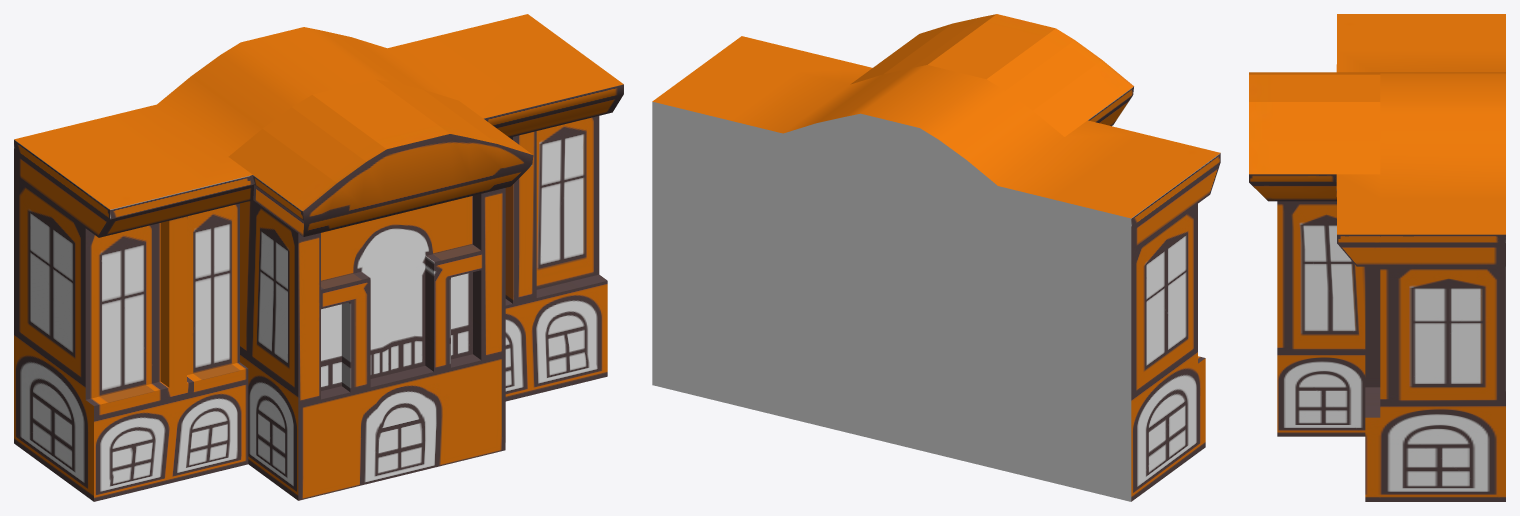
The model's file is Saran.fbx.
The picture shows the model from 3 angles, left to right: view 1: azimuth 30°, elevation 25°; view 2: azimuth 150°, elevation 25°; view 3: azimuth 270°, elevation 25°; orthographic projection. The views are drawn at different scales.
Visible parts, largest first — view 1: polySurface11; view 2: polySurface11; view 3: polySurface11.
Boxes of the visible parts, <box> form: polySurface11: <box>14,14,623,501</box>; polySurface11: <box>652,14,1220,501</box>; polySurface11: <box>1249,14,1505,501</box>.
Size of the model in its own units: 5.17 by 3.32 by 2.54.
